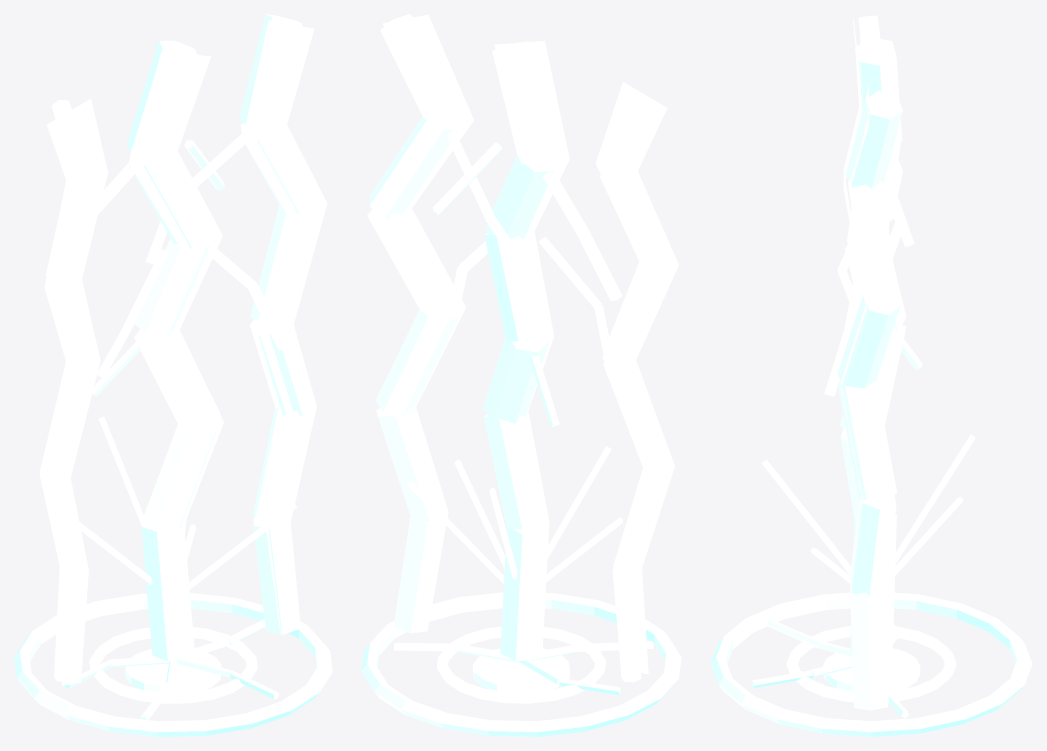
Rendered from effect-lightning.glb.
3 views of the same model, side by side, from view 1: azimuth 30°, elevation 25°; view 2: azimuth 150°, elevation 25°; view 3: azimuth 270°, elevation 25° (orthographic).
Visible parts, largest first — view 1: main_glow_1, white_zigzag_2, main_glow_3, white_zigzag_3, impact_ring_outer, white_zigzag_1, impact_ring_inner, impact_disc, main_bolt_2, branch_2, branch_2b, branch_3a (+10 smaller); view 2: main_glow_1, main_glow_3, main_bolt_2, impact_ring_outer, white_zigzag_2, white_zigzag_3, impact_ring_inner, white_zigzag_1, impact_disc, branch_1, branch_3a, branch_2b (+11 smaller); view 3: main_glow_3, impact_ring_outer, main_glow_1, impact_ring_inner, impact_disc, branch_2, spark_4, spark_3, ground_crack_2, white_zigzag_3, branch_2a, spark_0 (+1 smaller).
Boxes of the visible parts, <box> form: main_glow_1: <box>127,40,219,661</box>; white_zigzag_2: <box>42,99,107,685</box>; main_glow_3: <box>238,14,316,634</box>; white_zigzag_3: <box>242,20,327,634</box>; impact_ring_outer: <box>14,592,332,736</box>; white_zigzag_1: <box>130,52,223,653</box>; impact_ring_inner: <box>89,627,257,703</box>; impact_disc: <box>125,649,221,692</box>; main_bolt_2: <box>39,100,71,681</box>; branch_2: <box>212,249,287,349</box>; branch_2b: <box>97,249,168,377</box>; branch_3a: <box>145,134,244,264</box>; main_glow_1: <box>483,41,558,661</box>; main_glow_3: <box>367,14,461,633</box>; main_bolt_2: <box>599,95,662,682</box>; impact_ring_outer: <box>361,592,681,736</box>; white_zigzag_2: <box>595,82,678,674</box>; white_zigzag_3: <box>382,14,473,618</box>; impact_ring_inner: <box>436,626,606,703</box>; white_zigzag_1: <box>494,40,569,522</box>; impact_disc: <box>473,648,569,692</box>; branch_1: <box>538,159,622,301</box>; branch_3a: <box>446,122,531,276</box>; branch_2b: <box>539,237,609,354</box>; main_glow_3: <box>837,91,902,710</box>; impact_ring_outer: <box>710,592,1032,736</box>; main_glow_1: <box>840,37,906,655</box>; impact_ring_inner: <box>786,626,956,702</box>; impact_disc: <box>822,648,920,691</box>; branch_2: <box>824,263,862,396</box>; spark_4: <box>892,435,975,568</box>; spark_3: <box>762,459,850,574</box>; ground_crack_2: <box>751,659,852,687</box>; white_zigzag_3: <box>841,84,868,669</box>; branch_2a: <box>883,169,914,247</box>; spark_0: <box>886,496,963,585</box>.
Size of the model in its own units: 0.403 by 0.8281 by 0.38.
